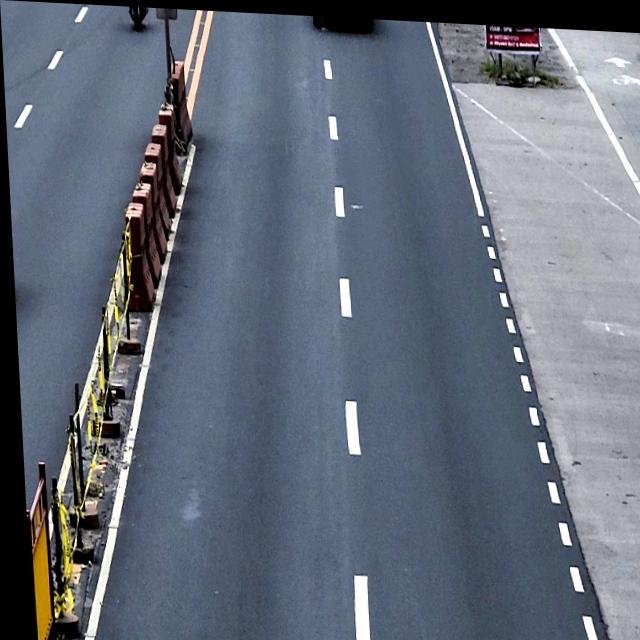Motorcycle: (128, 5, 149, 30)
